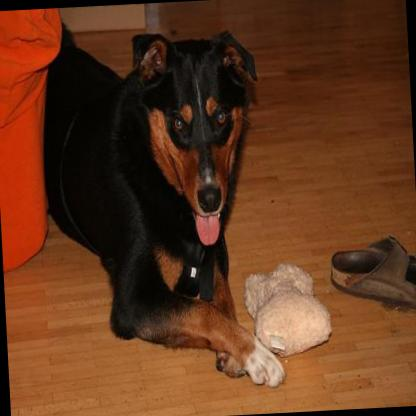Appenzeller: (33, 17, 285, 398)
